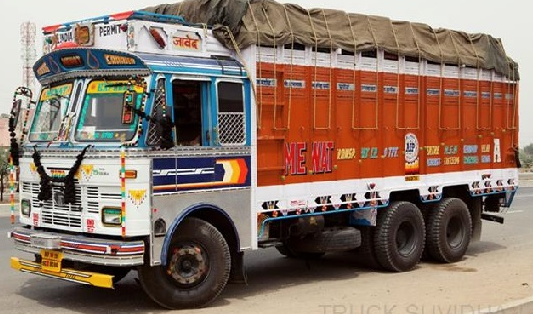truck: (8, 1, 524, 309)
